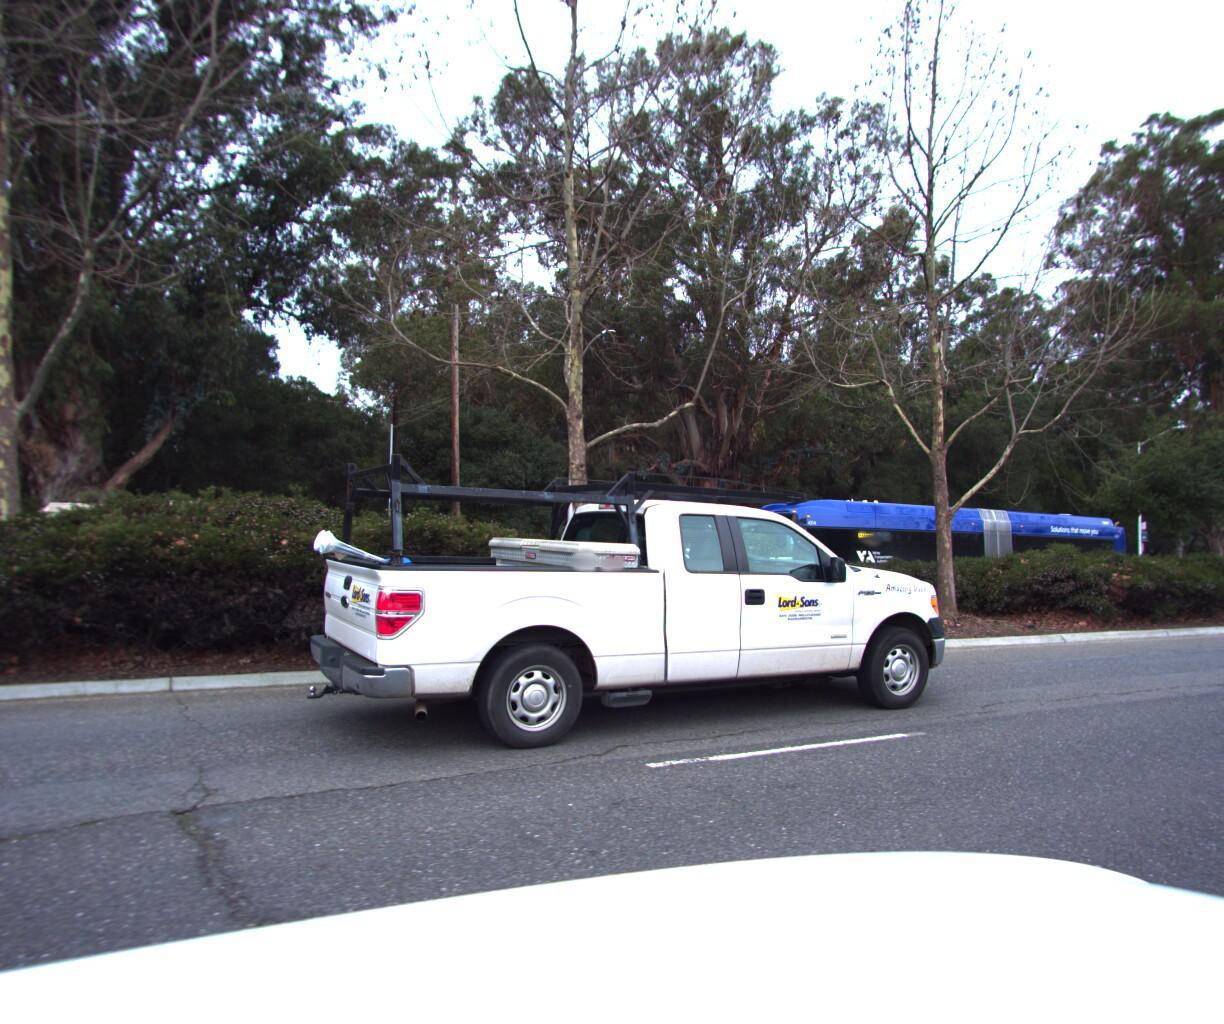bus: (723, 483, 1135, 599)
car: (266, 435, 964, 777)
